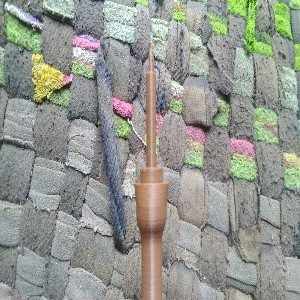solder: (133, 44, 170, 300)
